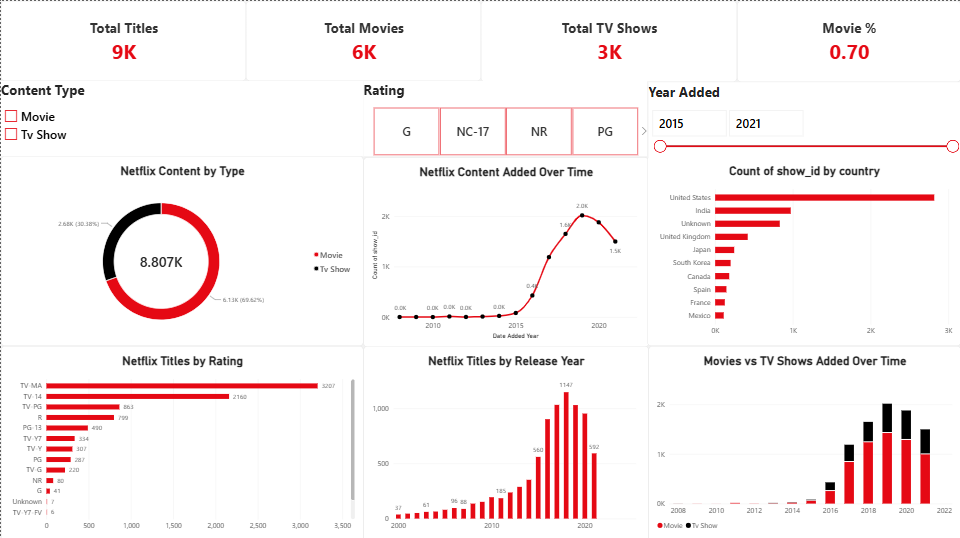

The page's visual inventory and layout, read from the dashboard file:
{"tool":"powerbi","page":{"name":"Page 1","canvas":[1920,1080],"ordinal":0},"visuals":[{"type":"cardVisual","fields":{"Data":["netflix_titles_CLEANED.Total Titles"]},"box":[0,0,490,160],"z":0},{"type":"cardVisual","fields":{"Data":["netflix_titles_CLEANED.Total Movies"]},"box":[490,0,470,160],"z":1000},{"type":"cardVisual","fields":{"Data":["netflix_titles_CLEANED.Total TV Shows"]},"box":[960,0,512.5,162.5],"z":2000},{"type":"cardVisual","fields":{"Data":["netflix_titles_CLEANED.Movie %"]},"box":[1472.5,0,447.5,162.5],"z":3000},{"type":"donutChart","title":"Netflix Content by Type","fields":{"Category":["netflix_titles_CLEANED.type"],"Y":["Count(netflix_titles_CLEANED.show_id)"]},"box":[0,310,725,380],"z":4000},{"type":"lineChart","title":"Netflix Content Added Over Time","fields":{"Category":["netflix_titles_CLEANED.Date Added Year"],"Y":["Count(netflix_titles_CLEANED.show_id)"]},"box":[725,312.5,570,380],"z":5000},{"type":"clusteredBarChart","fields":{"Category":["netflix_titles_CLEANED.country"],"Y":["Count(netflix_titles_CLEANED.show_id)"]},"box":[1292.5,310,627.5,380],"z":6000},{"type":"clusteredBarChart","title":"Netflix Titles by Rating","fields":{"Category":["netflix_titles_CLEANED.rating"],"Y":["Count(netflix_titles_CLEANED.show_id)"]},"box":[0,690,725,390],"z":7000},{"type":"columnChart","title":"Netflix Titles by Release Year","fields":{"Category":["netflix_titles_CLEANED.release_year"],"Y":["Count(netflix_titles_CLEANED.show_id)"]},"box":[725,690,570,390],"z":8000},{"type":"columnChart","title":"Movies vs TV Shows Added Over Time","fields":{"Category":["netflix_titles_CLEANED.Date Added Year"],"Series":["netflix_titles_CLEANED.type"],"Y":["Count(netflix_titles_CLEANED.show_id)"]},"box":[1295,690,625,390],"z":9000},{"type":"slicer","title":"Content Type","fields":{"Values":["netflix_titles_CLEANED.type"]},"box":[0,160,725,150],"z":10000},{"type":"slicer","title":"Rating","fields":{"Values":["netflix_titles_CLEANED.rating"]},"box":[725,160,567.5,150],"z":11000},{"type":"slicer","title":"Year Added","fields":{"Values":["netflix_titles_CLEANED.Date Added Year"]},"box":[1295,162.5,625,150],"z":12000}]}

Visuals, with their boxes in screenshot pixels (x1, y1, x2, y2), scaled from the page's 1920x1080 canvas onto the 960x538 screenshot:
cardVisual - netflix_titles_CLEANED.Total Titles: [0,0,245,80]
cardVisual - netflix_titles_CLEANED.Total Movies: [245,0,480,80]
cardVisual - netflix_titles_CLEANED.Total TV Shows: [480,0,736,81]
cardVisual - netflix_titles_CLEANED.Movie %: [736,0,959,81]
"Netflix Content by Type" donutChart: [0,154,362,344]
"Netflix Content Added Over Time" lineChart: [362,156,648,345]
clusteredBarChart - netflix_titles_CLEANED.country x Count(netflix_titles_CLEANED.show_id): [646,154,959,344]
"Netflix Titles by Rating" clusteredBarChart: [0,344,362,537]
"Netflix Titles by Release Year" columnChart: [362,344,648,537]
"Movies vs TV Shows Added Over Time" columnChart: [648,344,959,537]
"Content Type" slicer: [0,80,362,154]
"Rating" slicer: [362,80,646,154]
"Year Added" slicer: [648,81,959,156]
